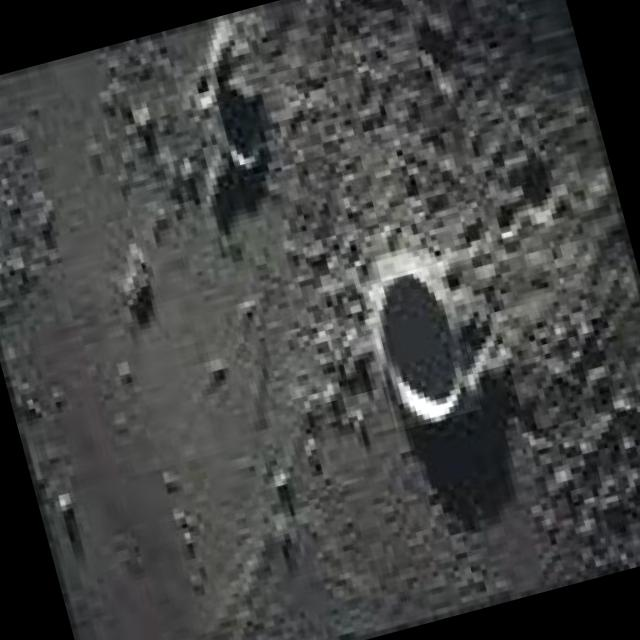crater: (357, 261, 481, 431)
